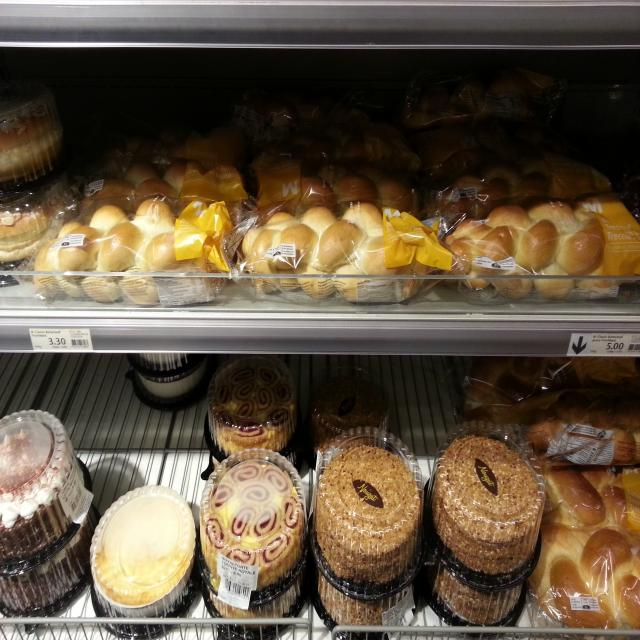Bakery: (242, 200, 463, 302), (27, 195, 237, 301), (424, 417, 548, 588), (310, 428, 425, 594), (197, 447, 310, 600), (443, 203, 622, 299), (90, 482, 198, 636), (0, 409, 95, 563), (423, 527, 531, 634), (0, 508, 101, 622), (533, 525, 640, 629), (205, 352, 303, 459), (0, 80, 71, 198)
